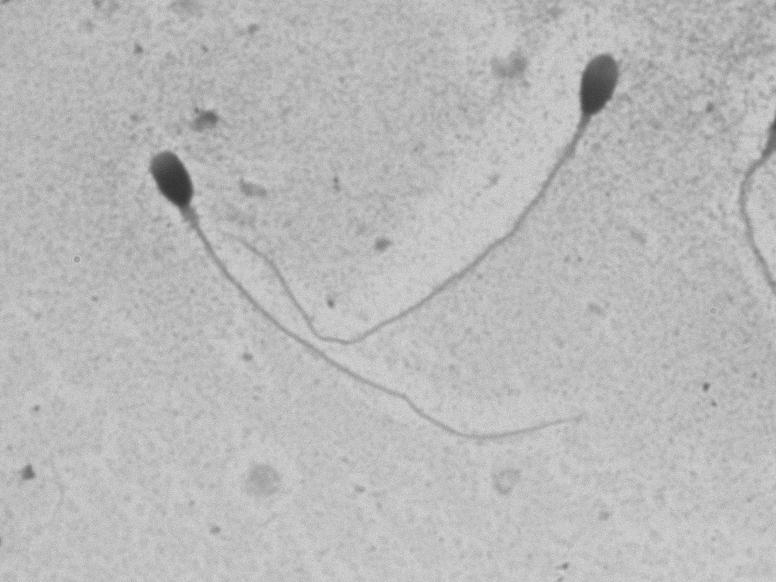Normal: (117, 132, 601, 459), (213, 35, 638, 351)
